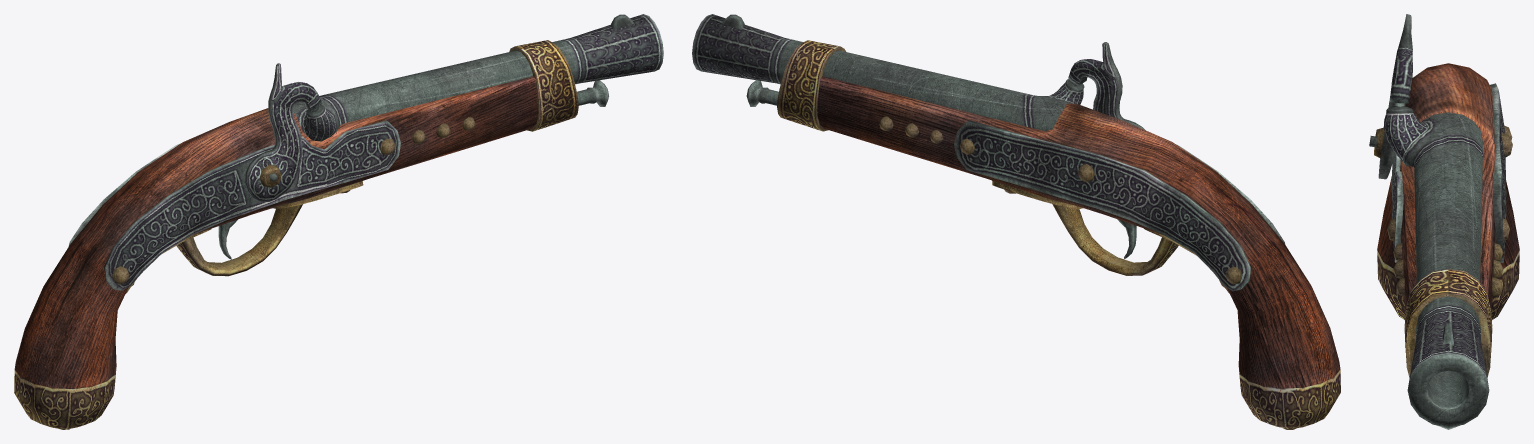
The model's file is pirate_pistol.FBX.
The picture shows the model from 3 angles, left to right: view 1: azimuth 30°, elevation 25°; view 2: azimuth 150°, elevation 25°; view 3: azimuth 270°, elevation 25°; orthographic projection. The views are drawn at different scales.
Parts seen in each view (by area): view 1: Pirate_pistol; view 2: Pirate_pistol; view 3: Pirate_pistol.
Part boxes in pixels (x1=…): Pirate_pistol: x1=14, y1=14, x2=663, y2=429; Pirate_pistol: x1=692, y1=14, x2=1340, y2=429; Pirate_pistol: x1=1369, y1=14, x2=1519, y2=429.
Size of the model in its own units: 52.23 by 25.91 by 7.8.
